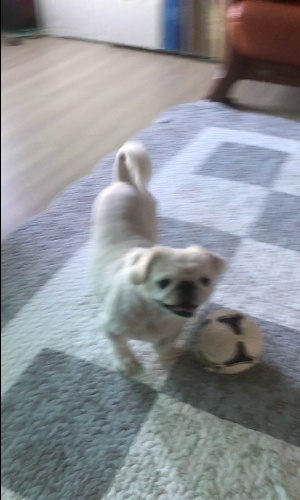ddubi: (86, 136, 227, 380)
